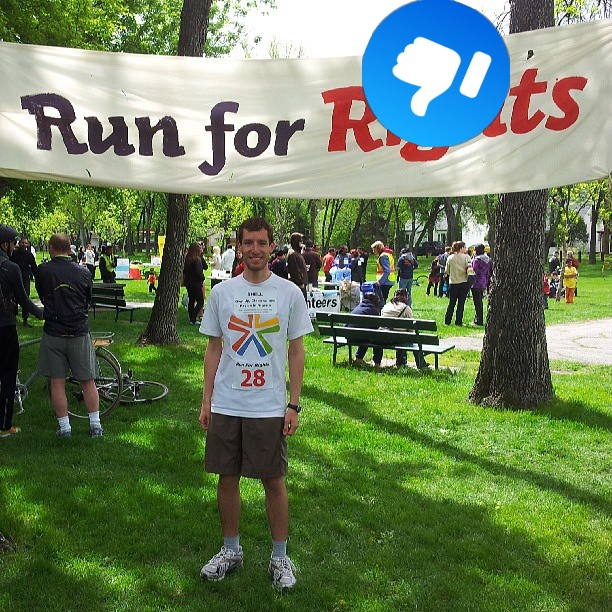like: (362, 0, 510, 147)
